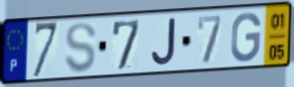7: (31, 21, 61, 80), (110, 18, 142, 72), (195, 13, 223, 66)
G: (229, 11, 263, 64)
J: (149, 16, 177, 69)
S: (63, 20, 99, 75)
